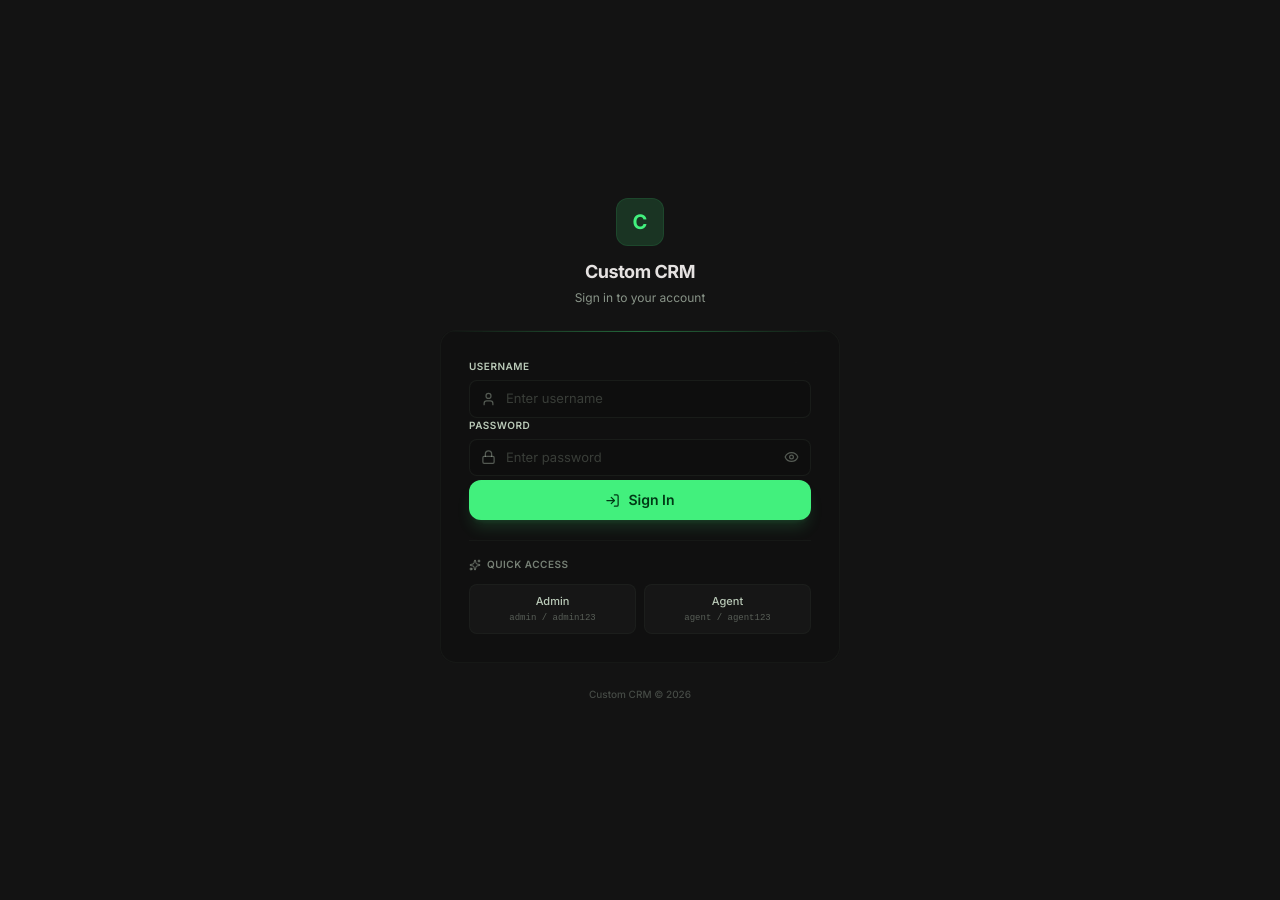
Test case: Login Page › quick-fill buttons set credentials
Expected: the button "Agent agent / agent123" is shown, [644,584,811,634]
Click the button "Admin admin / admin123": (552, 609) [469,584,636,634]
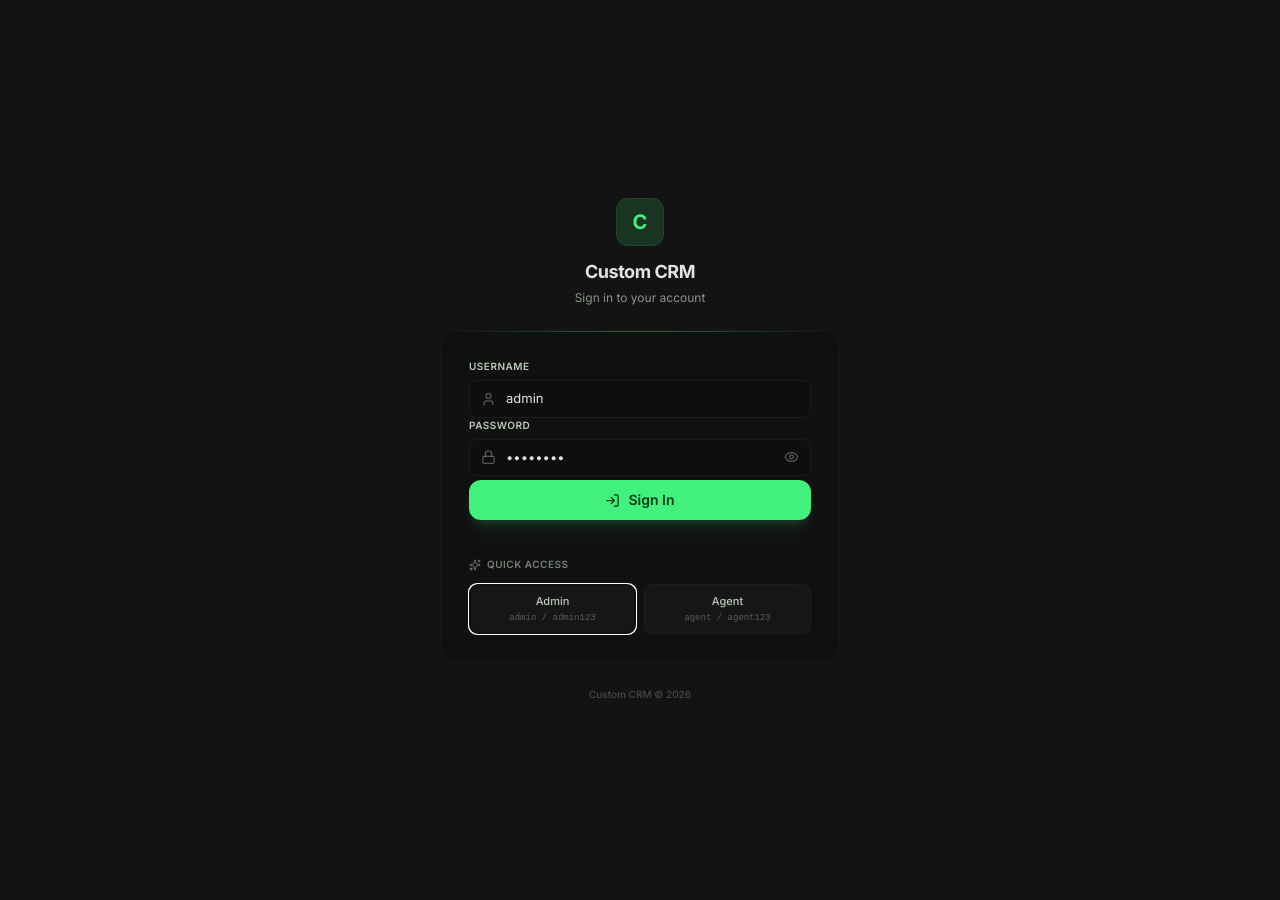
Result: the field with placeholder "Enter username" holds "admin" at [469,380,811,418]
Result: the password field with placeholder "Enter password" holds "admin123" at [469,438,811,476]
Click the button "Agent agent / agent123": (728, 609) [644,584,811,634]
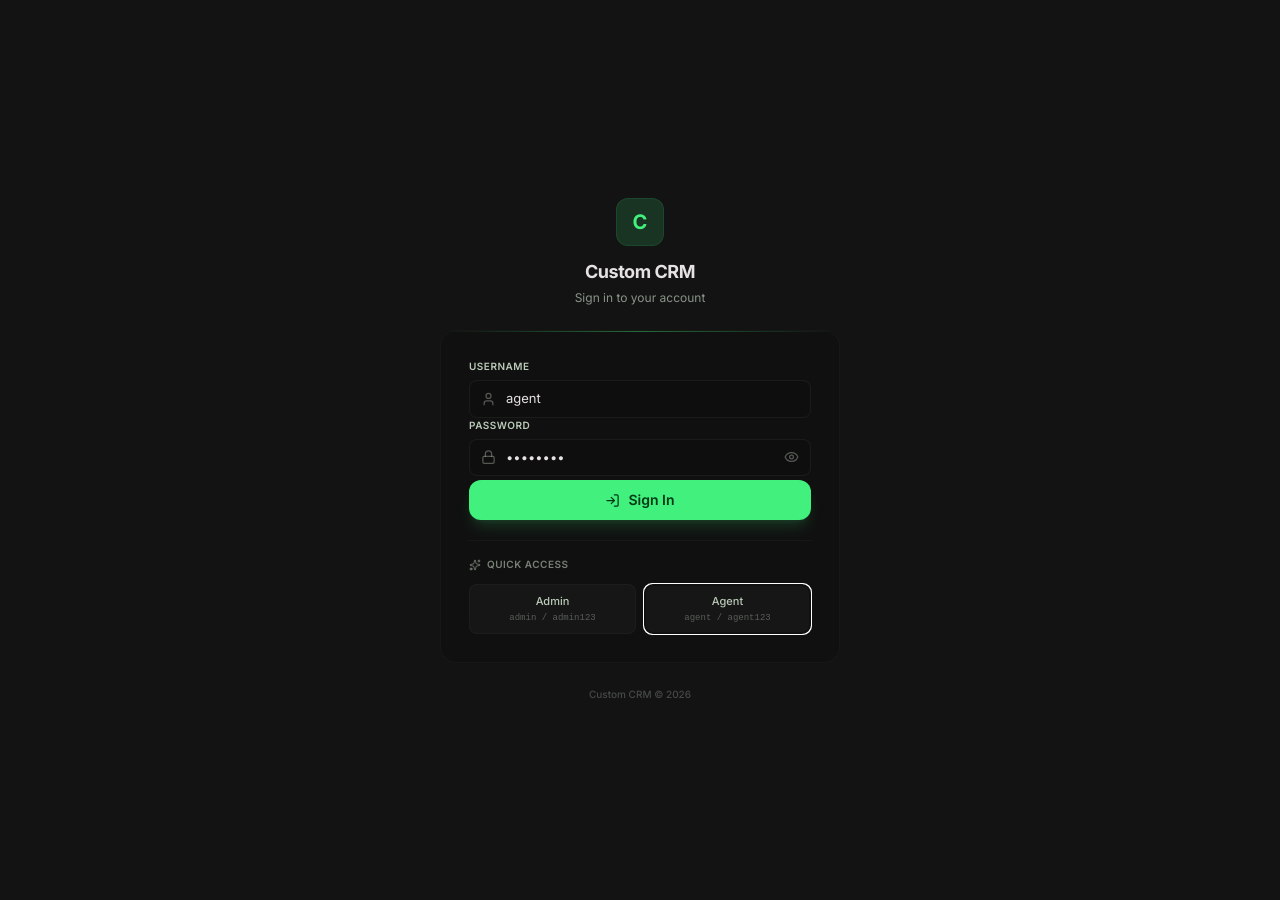
Expected: the password field with placeholder "Enter password" holds "agent123", [469,438,811,476]
Result: the field with placeholder "Enter username" holds "agent" at [469,380,811,418]
